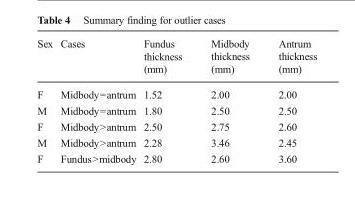table: (36, 37, 316, 164)
table column: (55, 37, 139, 164), (195, 37, 263, 164), (139, 37, 195, 164), (263, 37, 316, 164), (36, 37, 55, 164)
table column header: (36, 37, 316, 81)
table row: (36, 37, 316, 81), (36, 81, 316, 102), (36, 102, 316, 118), (36, 118, 316, 134), (36, 134, 316, 150), (36, 150, 316, 164)
